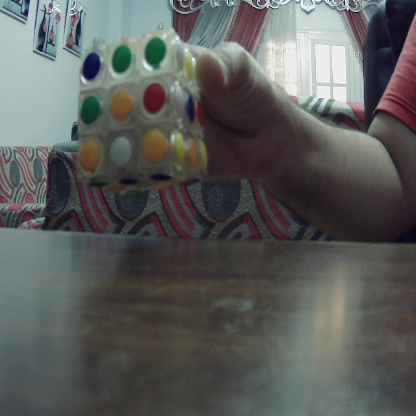Rubix Cube: (81, 30, 206, 191)
